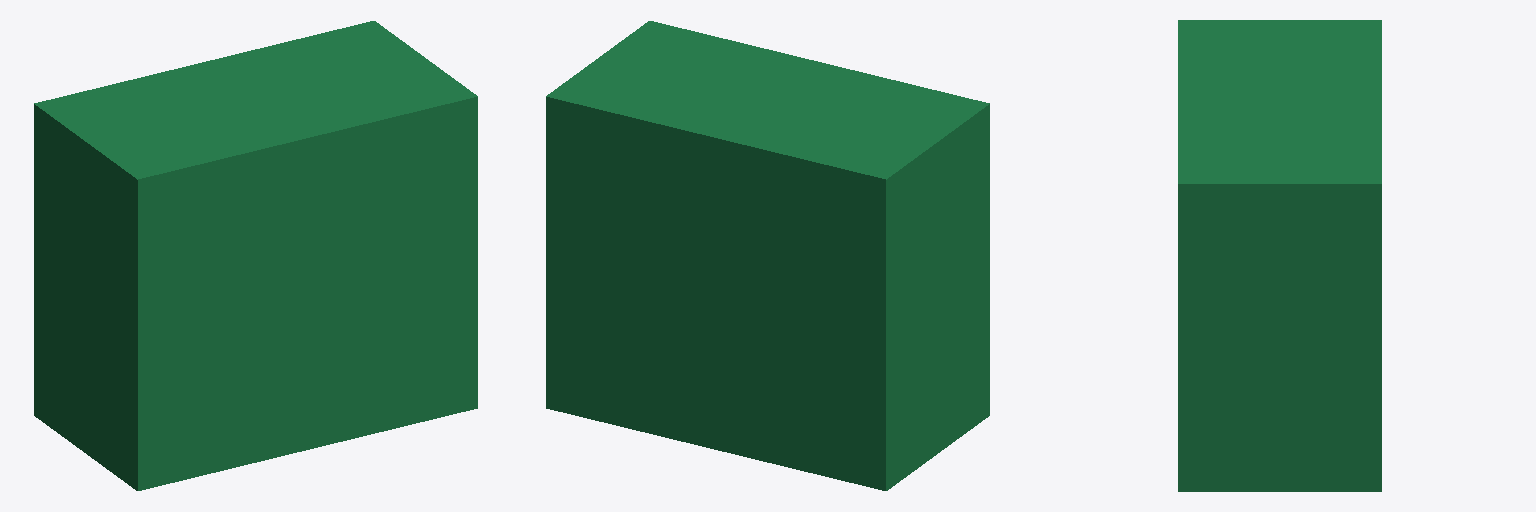
URDF robot description (myfirst):
<?xml version="1.0"?>
 <robot name="myfirst">
   <material name="dark_green">
     <color rgba="0.18039 0.5451 0.341176 1"/>
   </material>
   <link name="right_leg">
     <visual>
       <geometry>
         <box size="0.0823294 0.0941151 0.0496827"/>
       </geometry>
       <origin xyz="-0.02484135 -0.02484135 0.0411647" rpy="0 1.5707963 1.5707963"/>
       <material name="dark_green"/>
     </visual>
     <inertial>
       <mass value="0"/>
       <inertia ixx="1.0" ixy="0.0" ixz="0.0" iyy="1.0" iyz="0.0" izz="1.0"/>
     </inertial>
   </link>
 </robot>

--- Facts derived from the render (not from the file) ---
Views: 3 orthographic renders of the robot side by side, from view 1: azimuth 30°, elevation 25°; view 2: azimuth 150°, elevation 25°; view 3: azimuth 270°, elevation 25°.
Model myfirst with 1 links and 0 joints (none), rooted at right_leg, posed every joint at zero.
Visible links, largest first — view 1: right_leg; view 2: right_leg; view 3: right_leg.
Boxes of the visible links, x1,y1,x2,y2 form: right_leg: [34, 21, 477, 490]; right_leg: [546, 21, 989, 490]; right_leg: [1178, 20, 1381, 491].
Bounding box of the posed robot: 0.0941 × 0.0497 × 0.0823 m (x, y, z).
Geometry: primitives only (box / cylinder / sphere), no mesh files.
